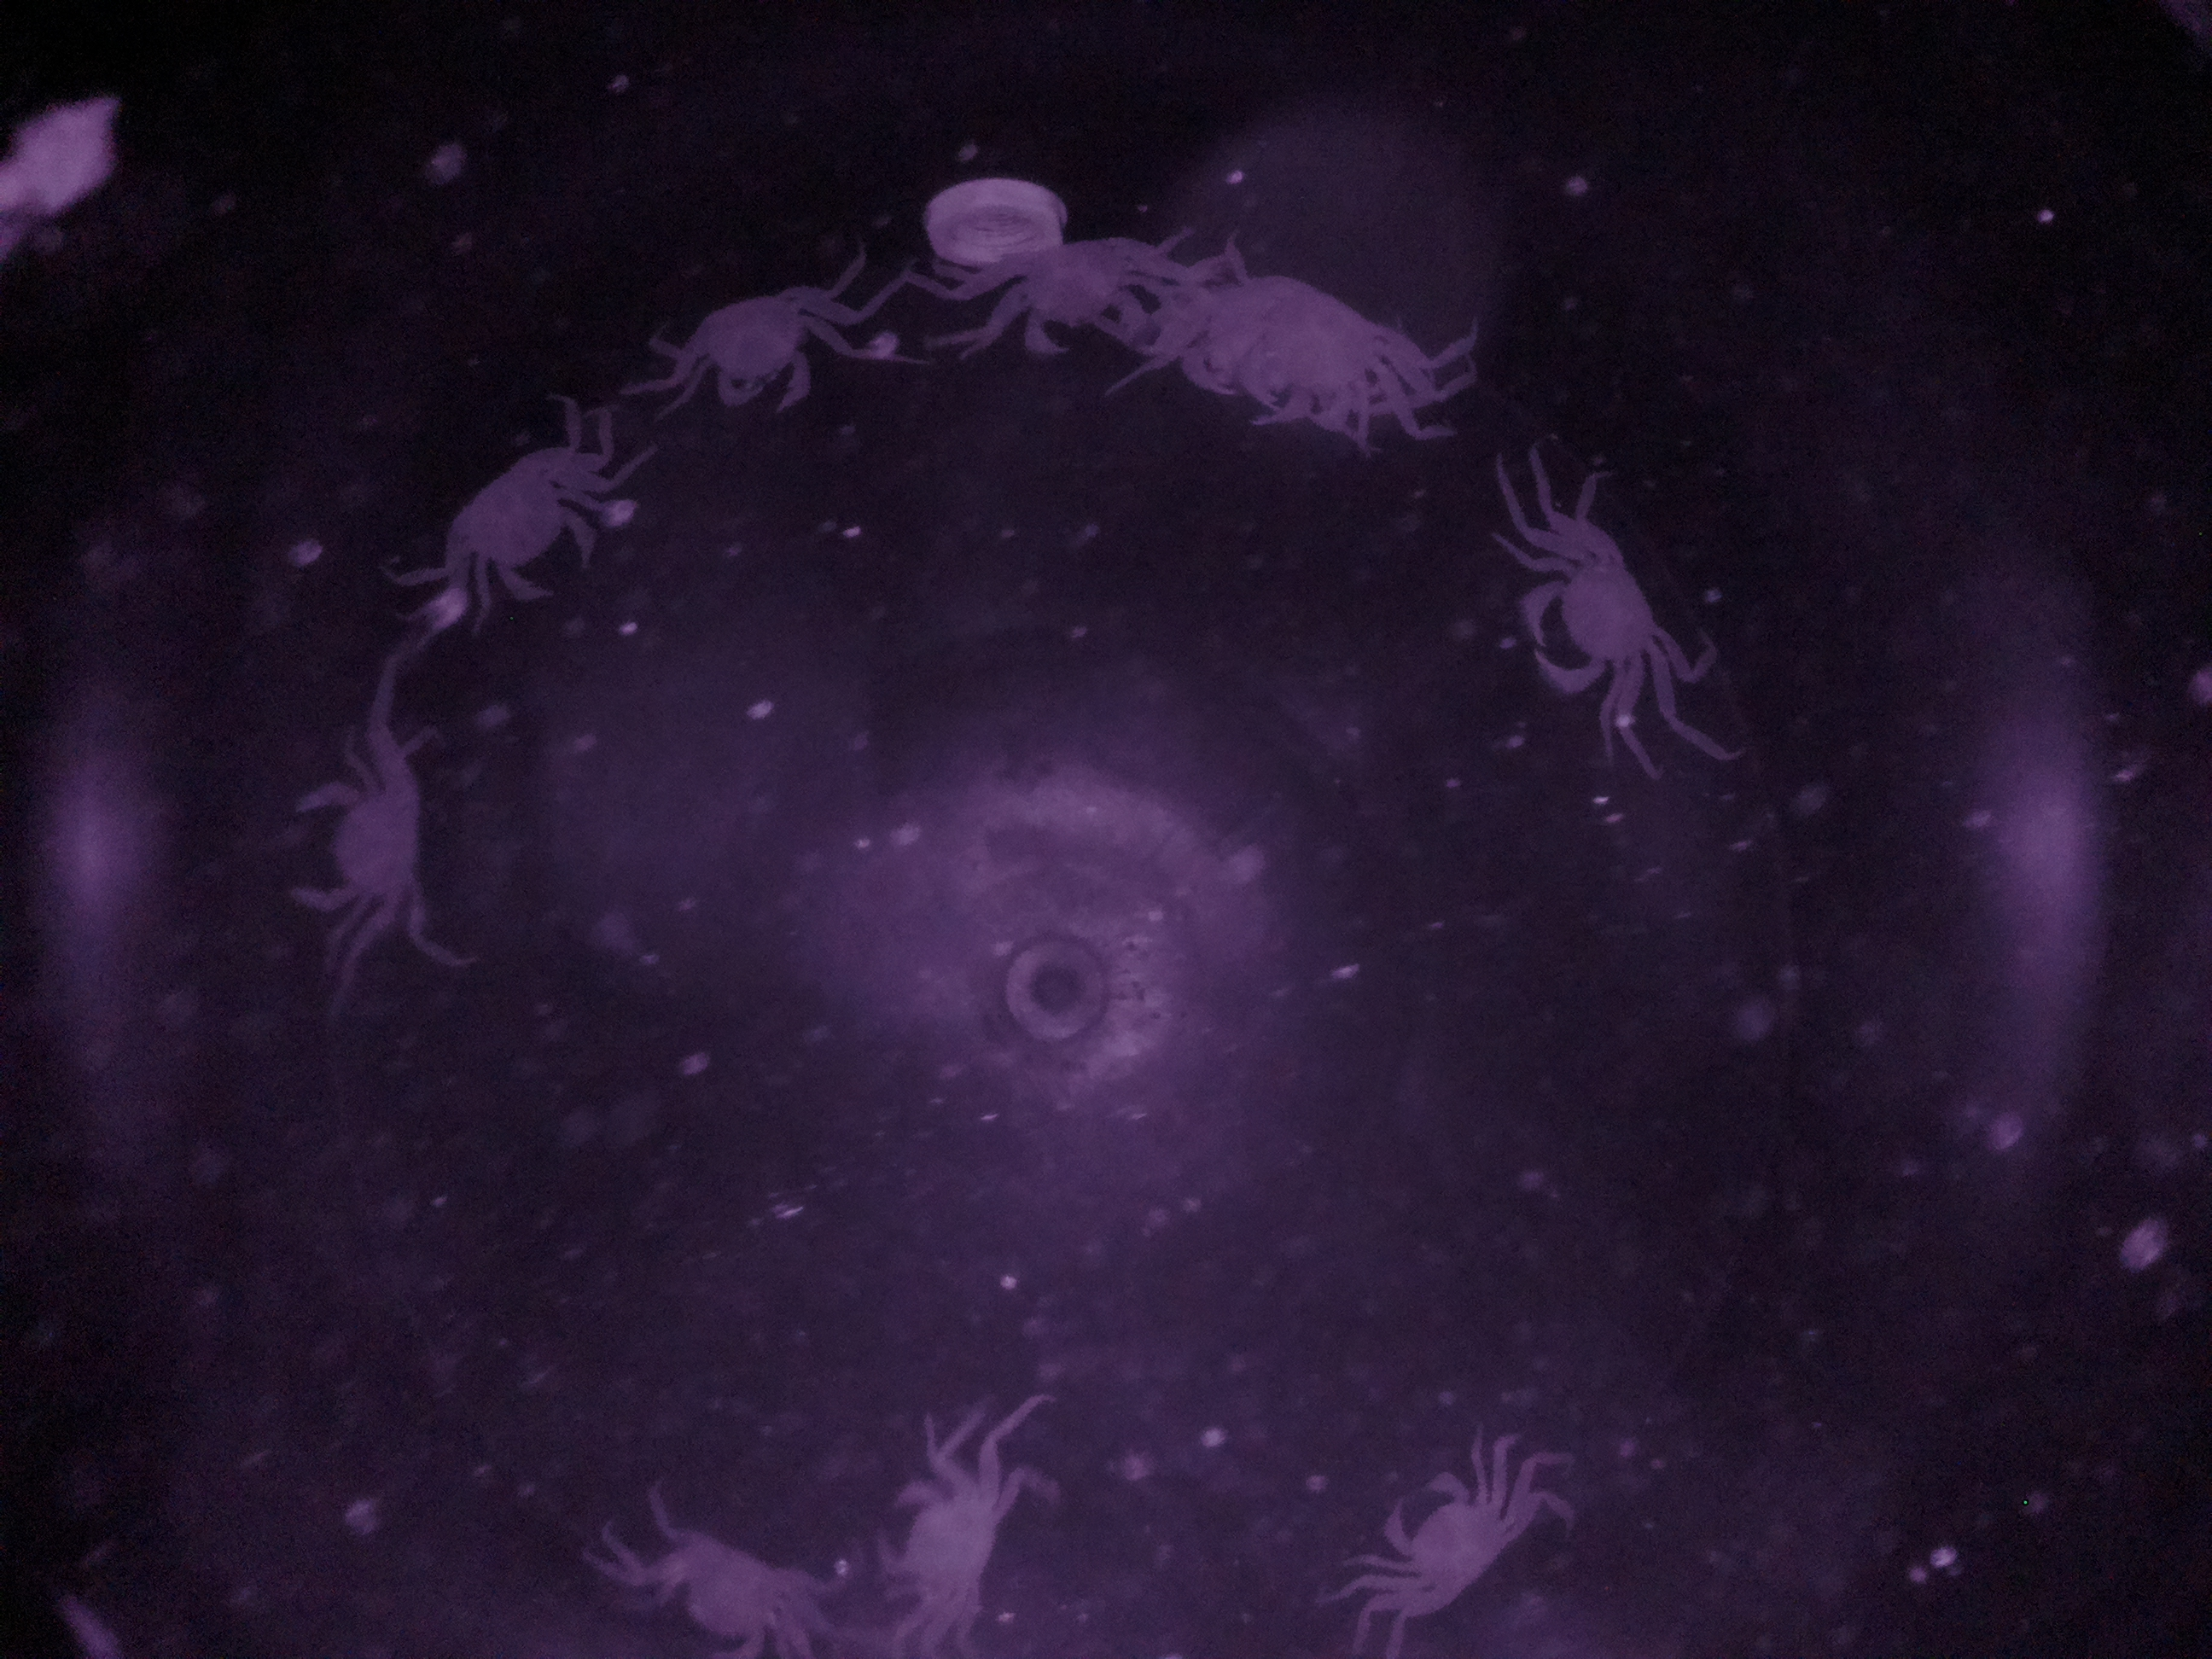Crab: (1514, 505, 1695, 744), (427, 425, 622, 636), (272, 742, 460, 960), (655, 265, 883, 430), (1362, 1446, 1531, 1626)
